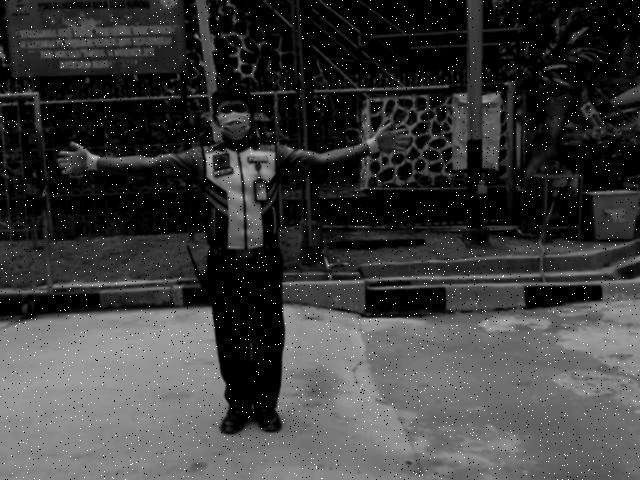gloves: (364, 119, 412, 157), (54, 139, 102, 176)
mask: (218, 114, 250, 140)
safety-shoes: (218, 404, 253, 435), (253, 407, 284, 433)
